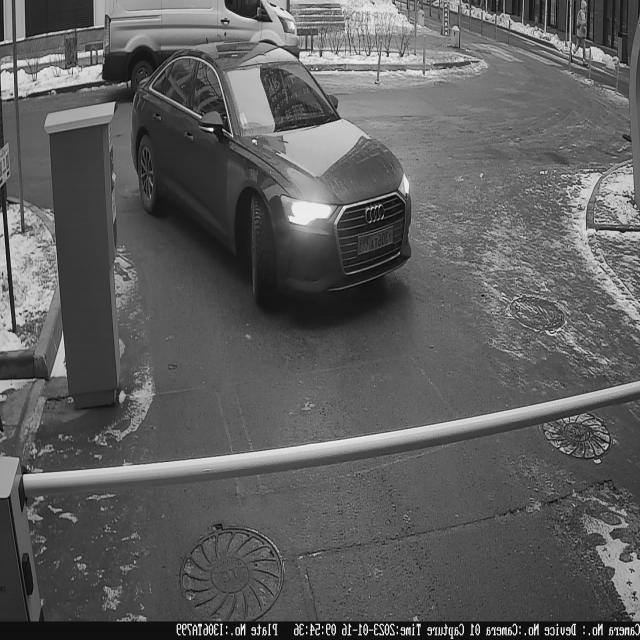car-plate-numbers: (357, 221, 397, 257)
